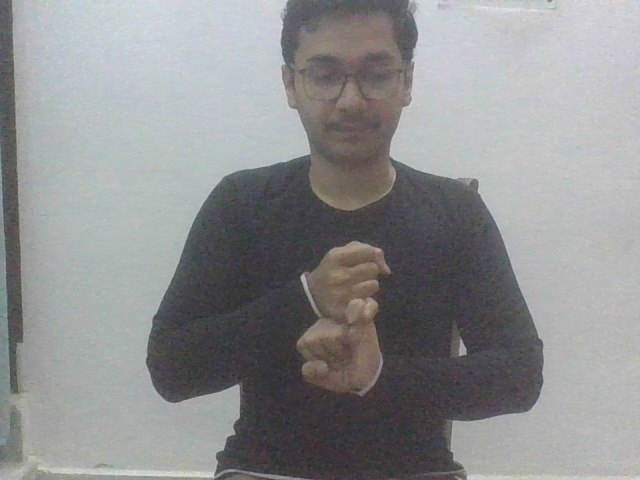S: (294, 239, 389, 400)
